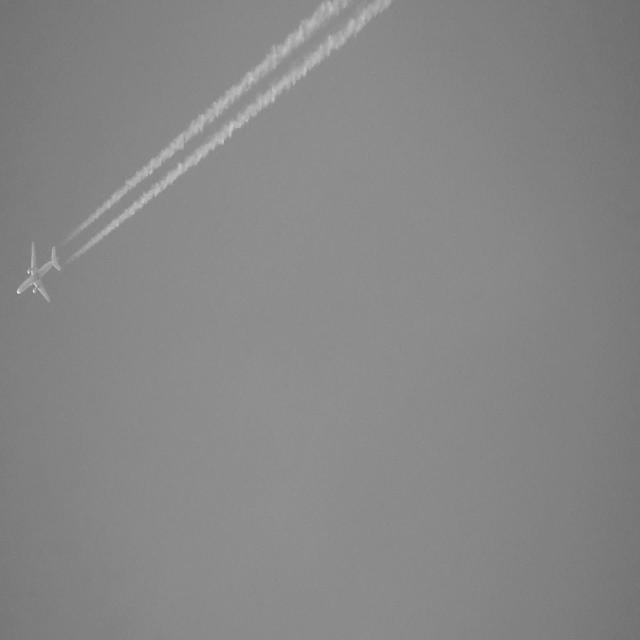aeroplane: (15, 240, 61, 308)
